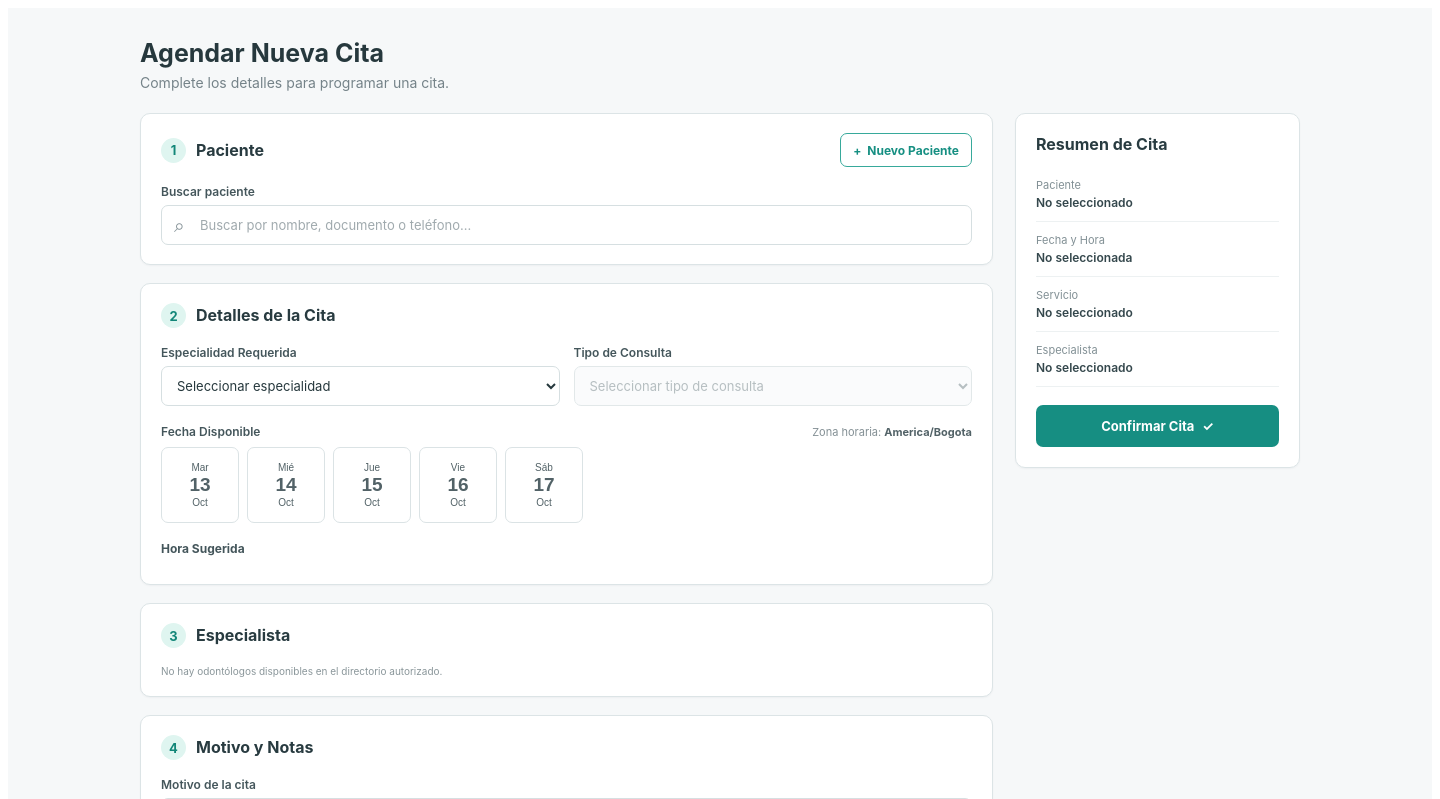
Test case: SchedulingPageComponent › shows empty feedback when patient search returns no active patients
Type "Paciente inexistente" into the search field labelled "Buscar paciente" at (566, 225), box 161,205 -> 972,245
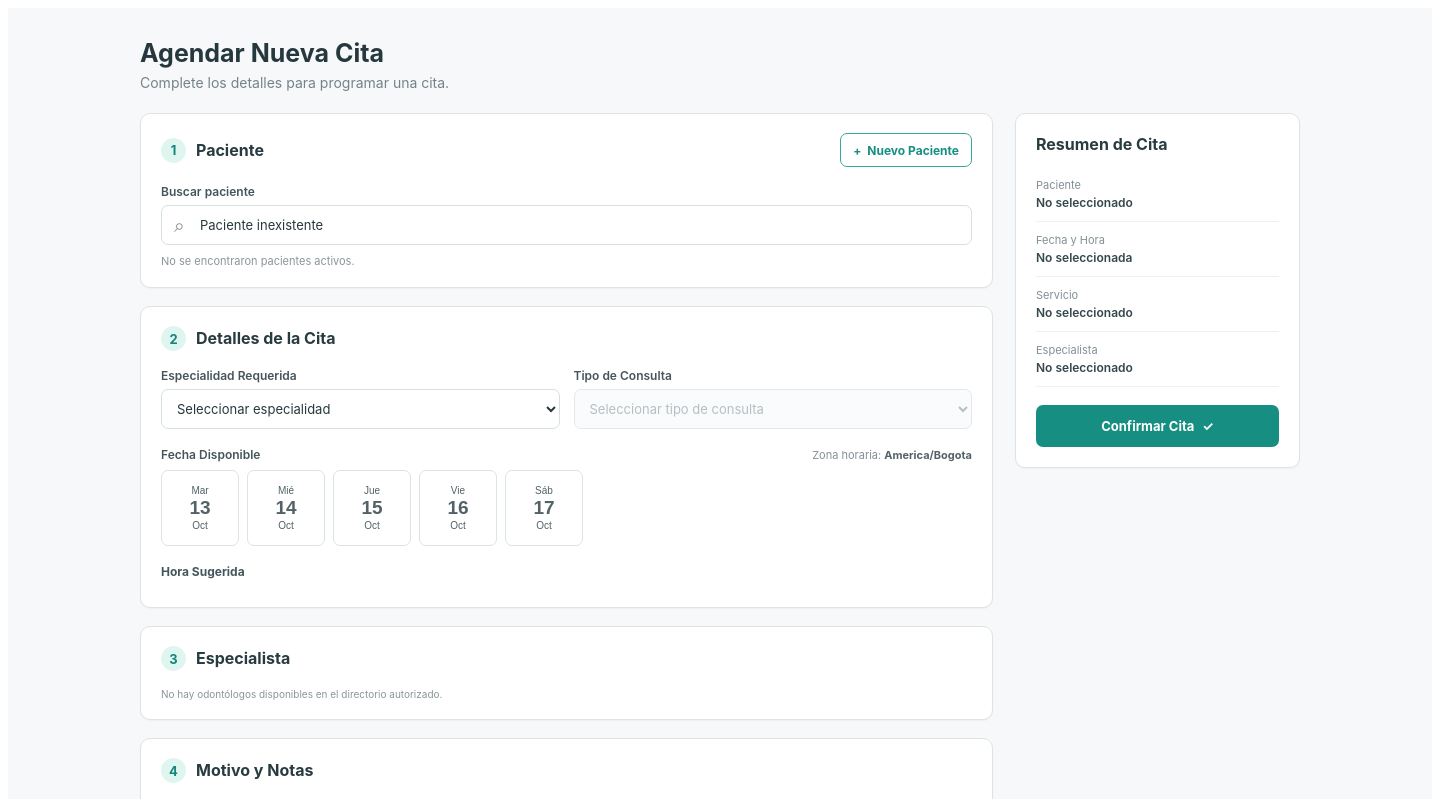
Expected: the text "No se encontraron pacientes activos." is shown, 161,254 -> 355,268
